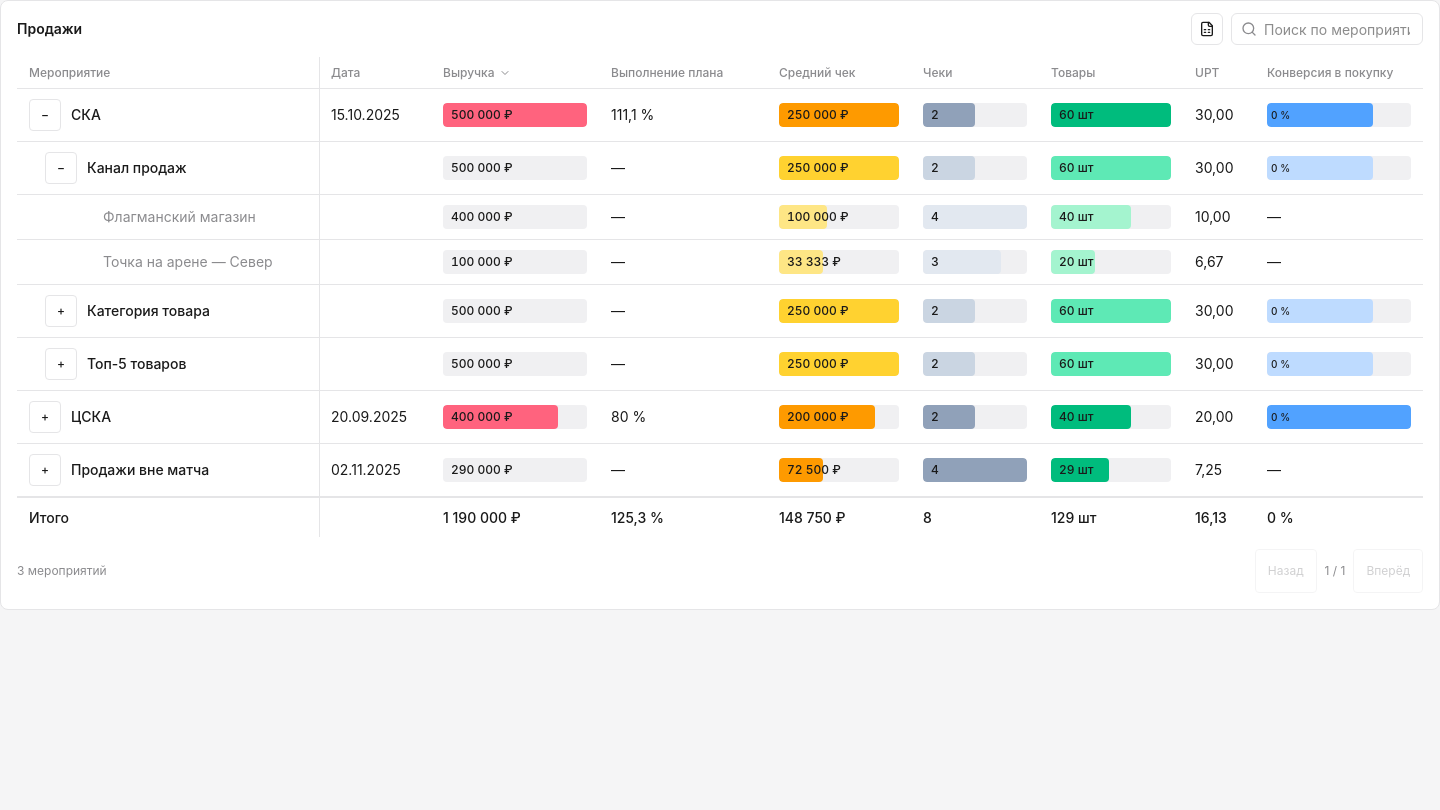
Scenario: MerchMatchSalesTable drill-down › closing collapse returns to the original match-only table
Expected: the text "Флагманский магазин" is shown, 103,207 -> 256,227
Step 1. Click the button "−" in the row of "15.10.2025" → coordinates (45, 115), box 29,99 -> 61,131
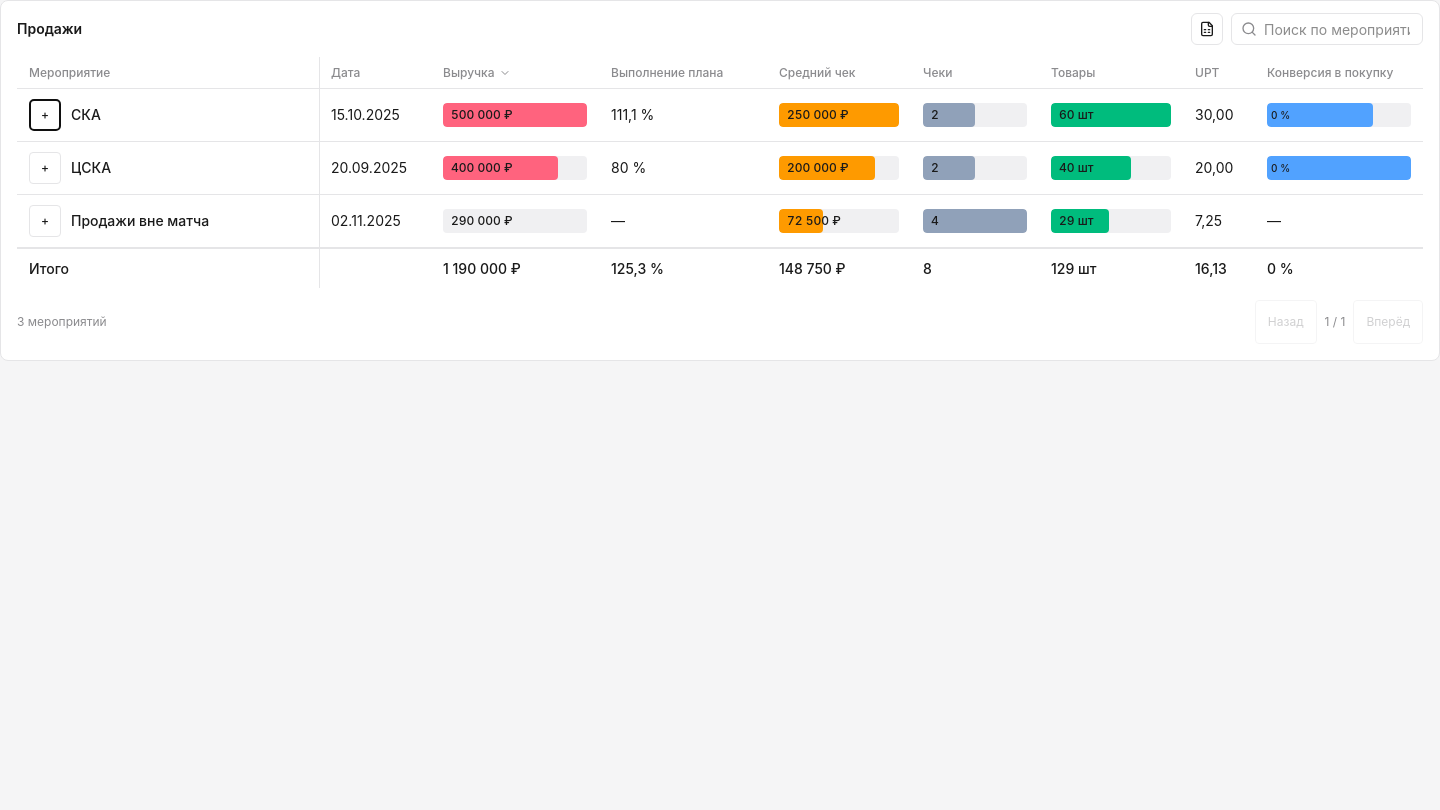
Expected: the text "Канал продаж" is gone
Expected: the text "Категория товара" is gone
Expected: the text "Топ-5 товаров" is gone
